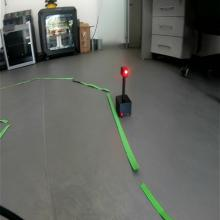red: (120, 66, 129, 78)
